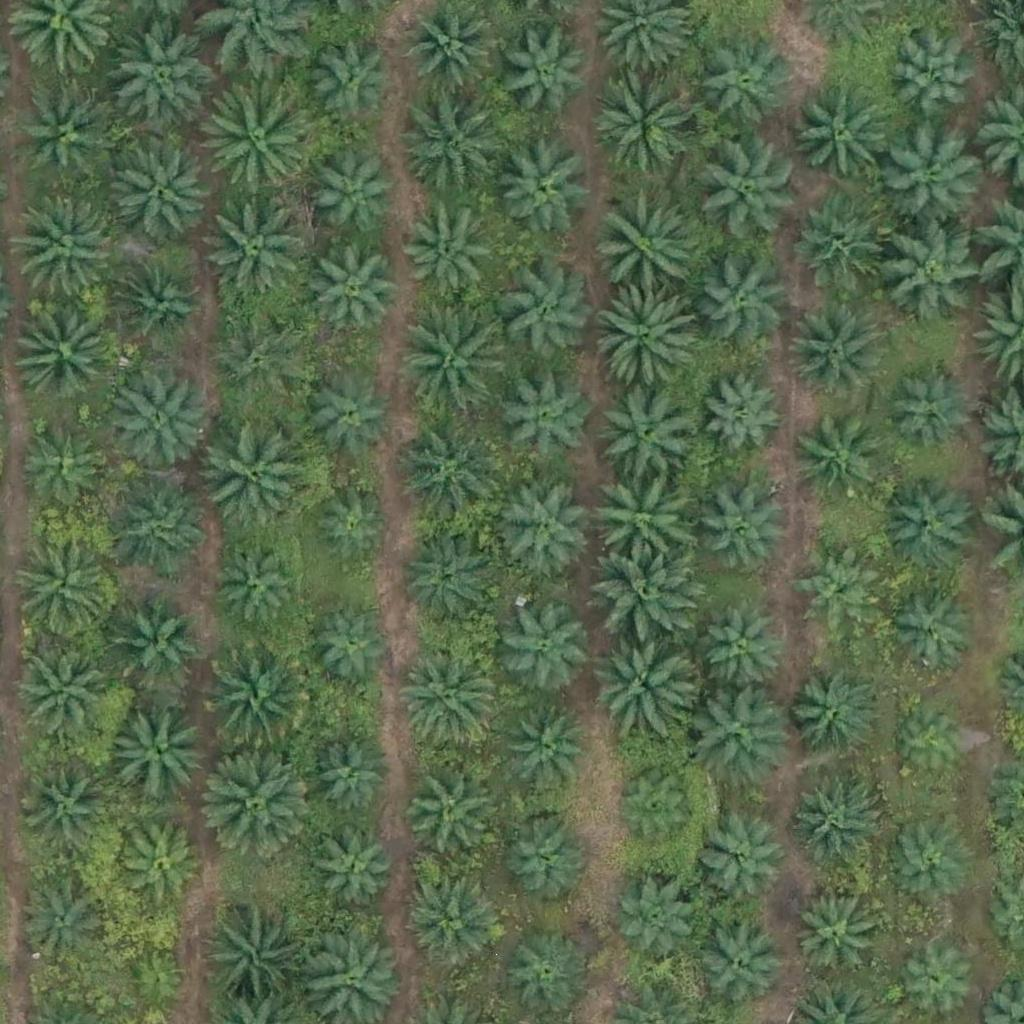Kelapa_Sawit: (103, 22, 216, 136), (693, 132, 806, 246), (204, 411, 317, 524), (399, 86, 512, 199), (398, 308, 511, 421), (106, 363, 219, 476), (7, 297, 120, 410), (7, 184, 120, 297), (203, 644, 315, 757), (199, 743, 311, 856), (592, 283, 704, 396), (201, 80, 313, 193), (195, 196, 307, 309), (108, 702, 208, 803), (106, 482, 206, 583), (399, 425, 499, 526), (400, 642, 500, 743), (406, 873, 506, 974), (491, 476, 591, 577), (592, 476, 692, 577), (590, 629, 690, 730), (693, 685, 793, 786), (882, 128, 982, 229), (793, 85, 893, 186), (600, 378, 700, 479), (494, 365, 594, 466), (498, 261, 598, 362), (493, 139, 593, 240), (400, 198, 500, 299), (114, 149, 214, 250), (15, 79, 115, 180), (690, 31, 790, 131), (16, 537, 116, 637), (11, 637, 111, 737), (597, 547, 697, 647), (876, 478, 976, 578), (883, 582, 983, 682), (887, 227, 987, 327), (786, 302, 886, 402), (793, 194, 893, 294), (590, 75, 690, 175), (594, 190, 694, 290), (117, 596, 205, 685), (792, 674, 880, 763), (310, 35, 398, 123), (503, 30, 591, 118), (17, 422, 105, 510), (19, 767, 107, 855), (117, 820, 205, 908), (407, 542, 495, 630), (501, 813, 589, 901), (502, 933, 590, 1021), (616, 877, 704, 965), (702, 609, 790, 697), (694, 820, 782, 908), (698, 921, 786, 1009), (795, 417, 883, 505), (795, 544, 883, 632), (792, 780, 880, 868), (882, 370, 970, 458), (308, 369, 396, 457), (213, 317, 301, 405), (118, 252, 206, 340), (21, 881, 108, 970), (308, 828, 395, 917), (504, 699, 591, 788), (311, 243, 398, 332), (890, 40, 977, 128), (217, 539, 304, 627), (210, 926, 297, 1014), (310, 482, 397, 570), (307, 603, 394, 691), (312, 733, 399, 821), (406, 771, 493, 859), (504, 609, 591, 697), (610, 768, 697, 856), (699, 488, 786, 576), (795, 894, 882, 982), (885, 813, 972, 901), (700, 260, 787, 348), (701, 368, 788, 456), (307, 154, 394, 242), (895, 707, 970, 783), (122, 942, 197, 1018)
